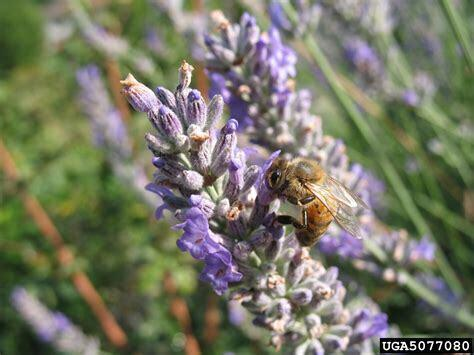worker-bee: (264, 157, 368, 246)
